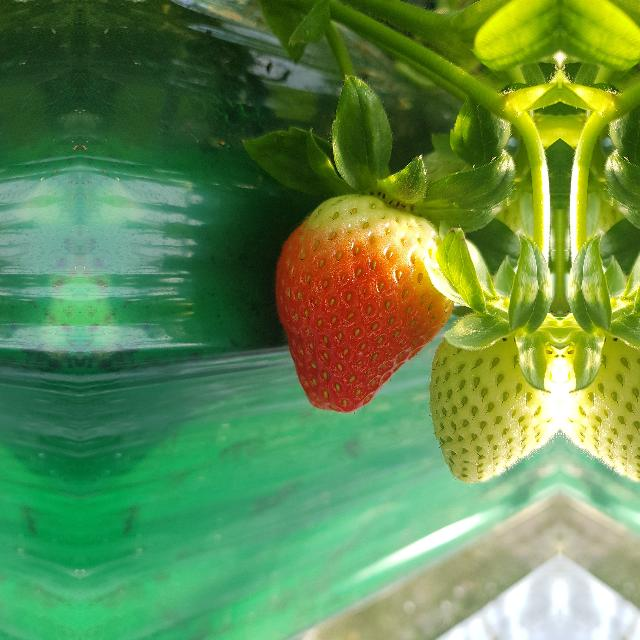Health_75: (274, 194, 454, 414)
